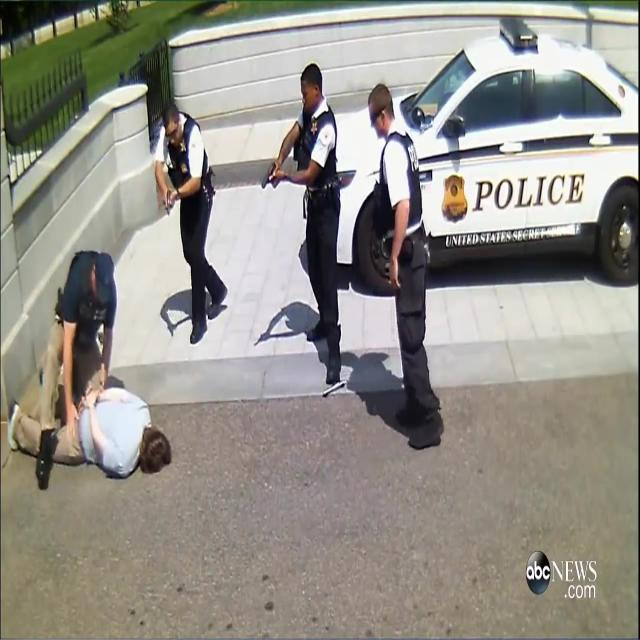Weapon: (250, 150, 291, 206), (158, 182, 192, 220)
